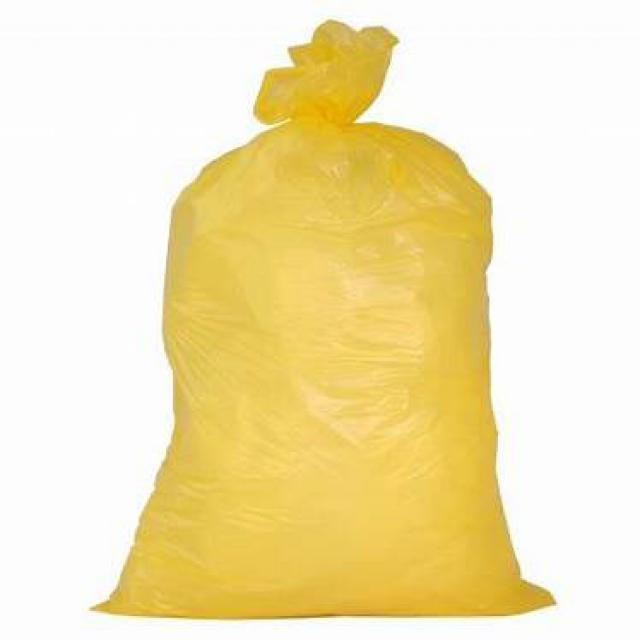waste: (99, 24, 564, 621)
